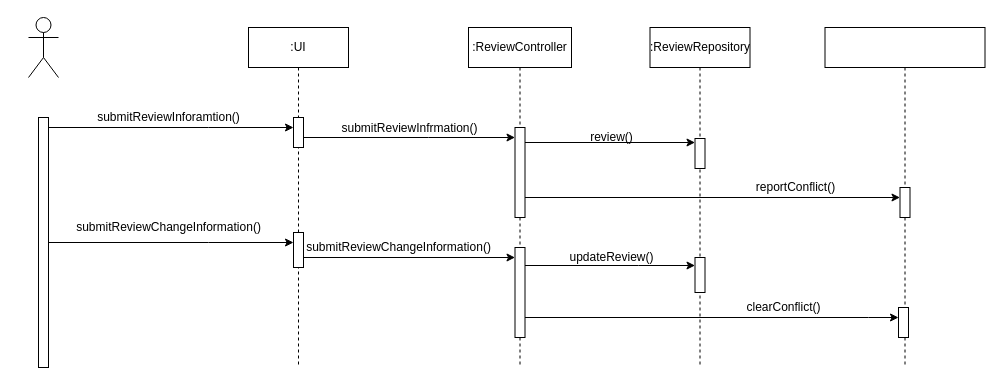
Some shapes in this 1003 by 385 pixel diagram are drawn without their labels. The centre of each missing label's shape, as x and y in pixels:
":ConflictingPapersRepository" belongs at point (904, 197).
":Reviewer" belongs at point (43, 47).
